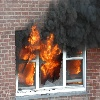fire: (17, 27, 83, 86)
